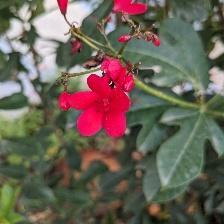jatropha: (69, 73, 133, 139)
